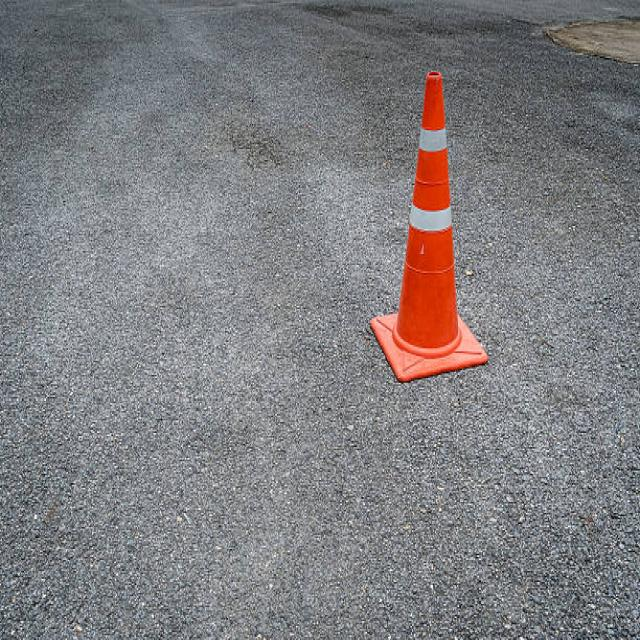Traffic Cone: (368, 57, 498, 394)
